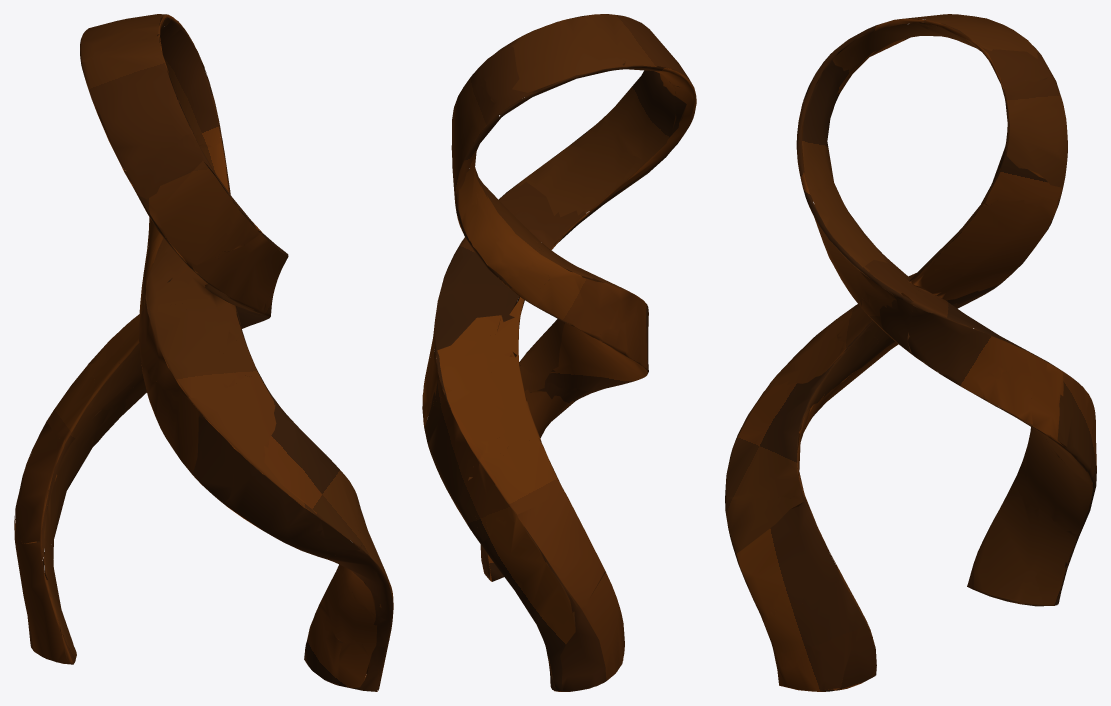
Rendered from sculpt_ribbon.glb.
The picture shows the model from 3 angles, left to right: view 1: azimuth 30°, elevation 25°; view 2: azimuth 150°, elevation 25°; view 3: azimuth 270°, elevation 25°; orthographic projection. The views are drawn at different scales.
Visible parts, largest first — view 1: LO.001; view 2: LO.001; view 3: LO.001.
Boxes of the visible parts, x1,y1,x2,y2 form: LO.001: [14, 14, 393, 691]; LO.001: [422, 14, 696, 691]; LO.001: [725, 14, 1096, 691].
Bounding box in the file's own units: 2.28 × 6 × 3.35.
Materials: 1 (1 with a texture image).
